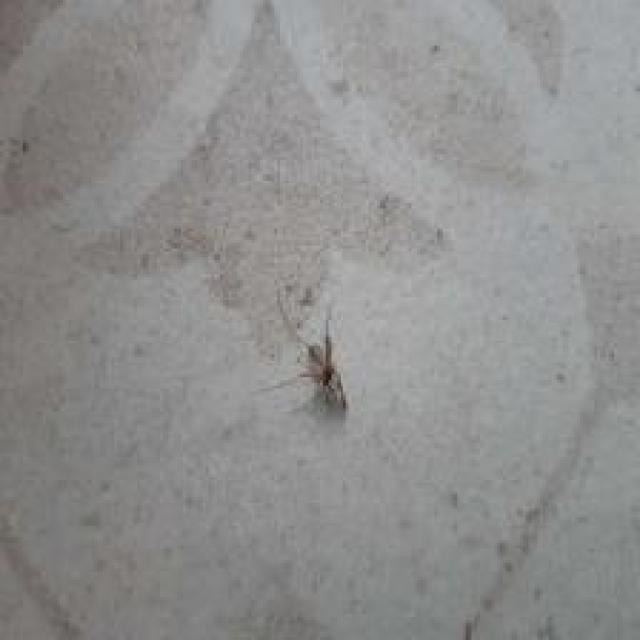Culex: (297, 326, 349, 411)
